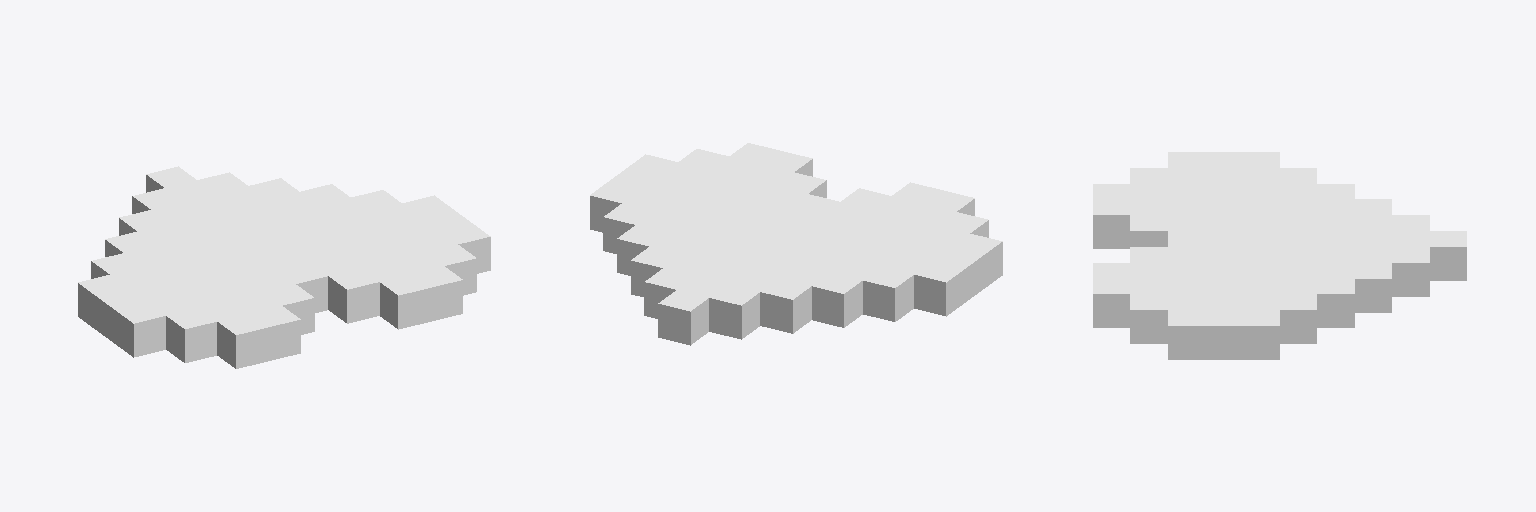
The model's file is Heart_Obj.obj.
The picture shows the model from 3 angles: view 1: azimuth 30°, elevation 25°; view 2: azimuth 150°, elevation 25°; view 3: azimuth 270°, elevation 25°; orthographic projection.
Visible parts, largest first — view 1: object 1; view 2: object 1; view 3: object 1.
Part boxes in pixels (left/top/right/bottom): object 1: left=78, top=166, right=490, bottom=368; object 1: left=590, top=143, right=1002, bottom=345; object 1: left=1093, top=152, right=1466, bottom=359.
Bounding box in the file's own units: 1.1 × 0.1 × 1.